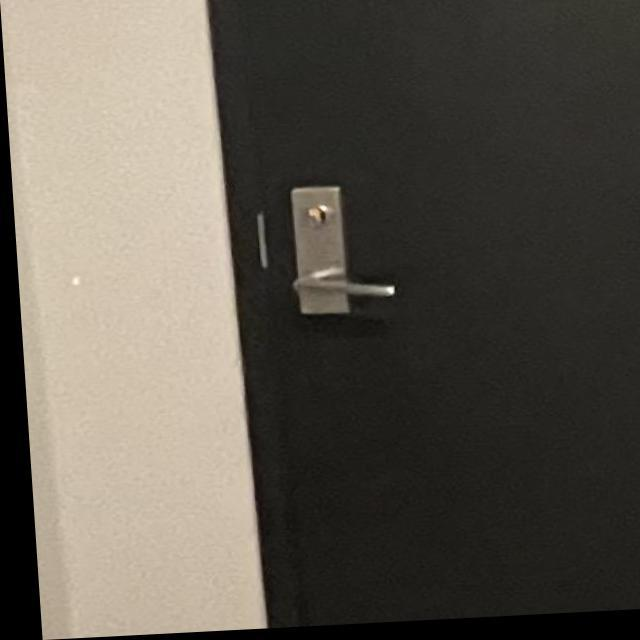door_handle: (264, 258, 407, 325)
